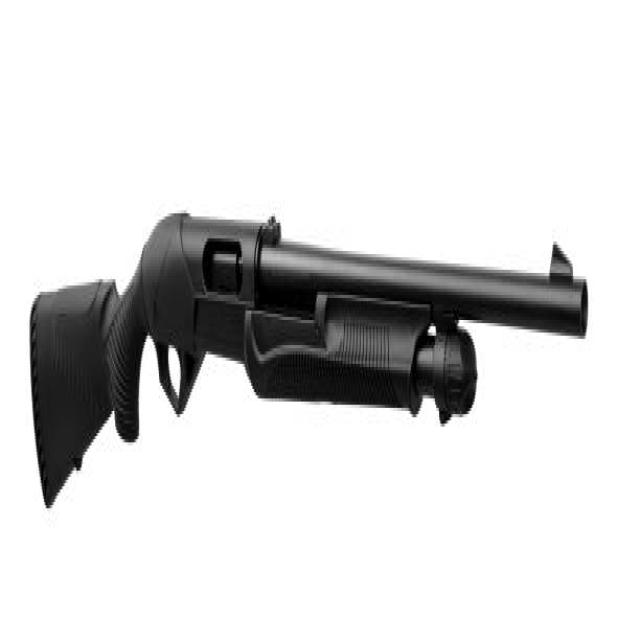rifle: (29, 185, 593, 524)
